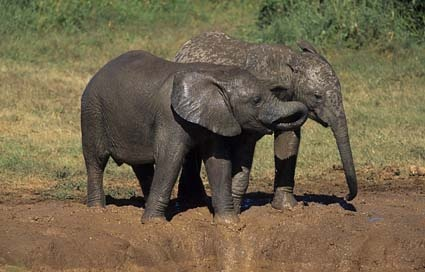elephant: (80, 49, 308, 230), (176, 30, 356, 211)
